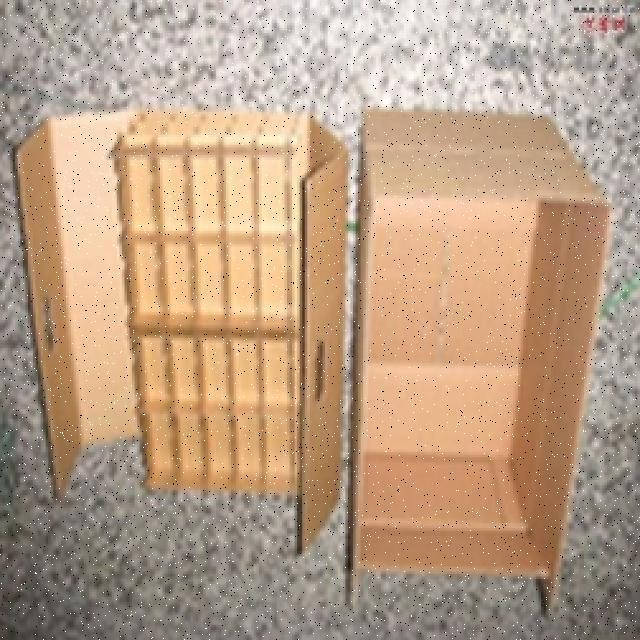box: (336, 99, 622, 602), (59, 112, 358, 496)
